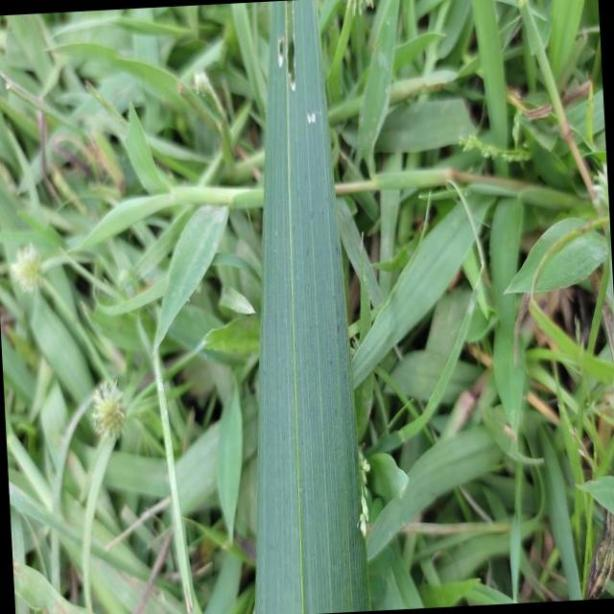Boron: (249, 1, 370, 614)
